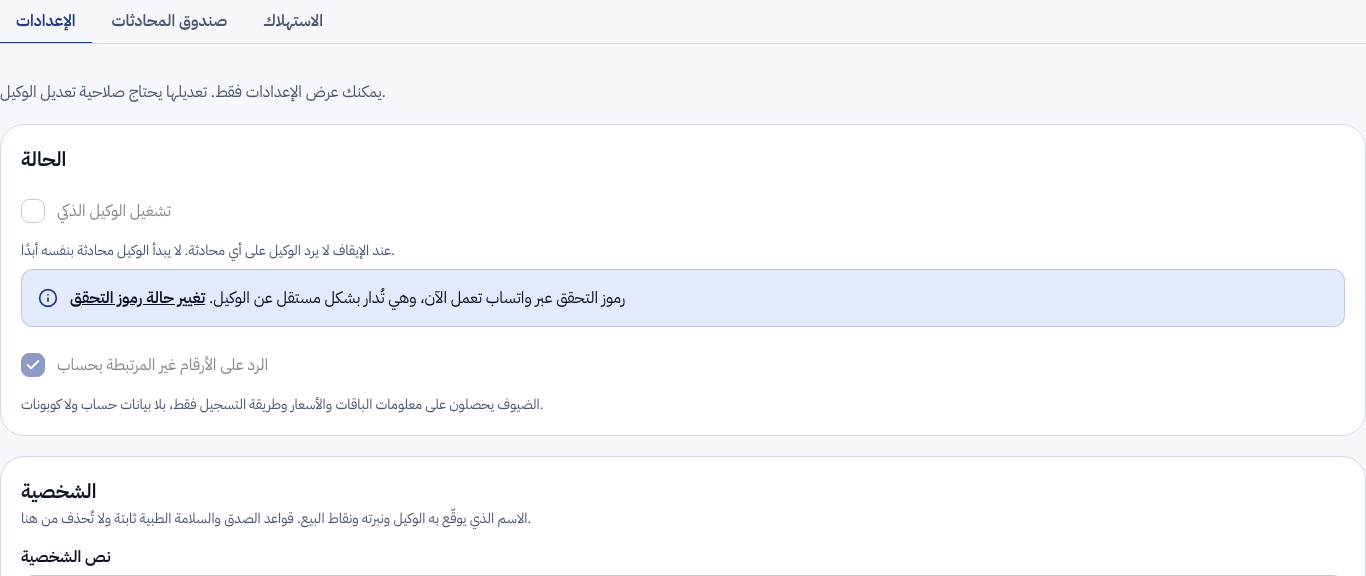
the Inbox tab › offers no chat controls to a reader without the write permission
Click the tab "صندوق المحادثات": {"x": 169, "y": 22} [96,0,243,44]
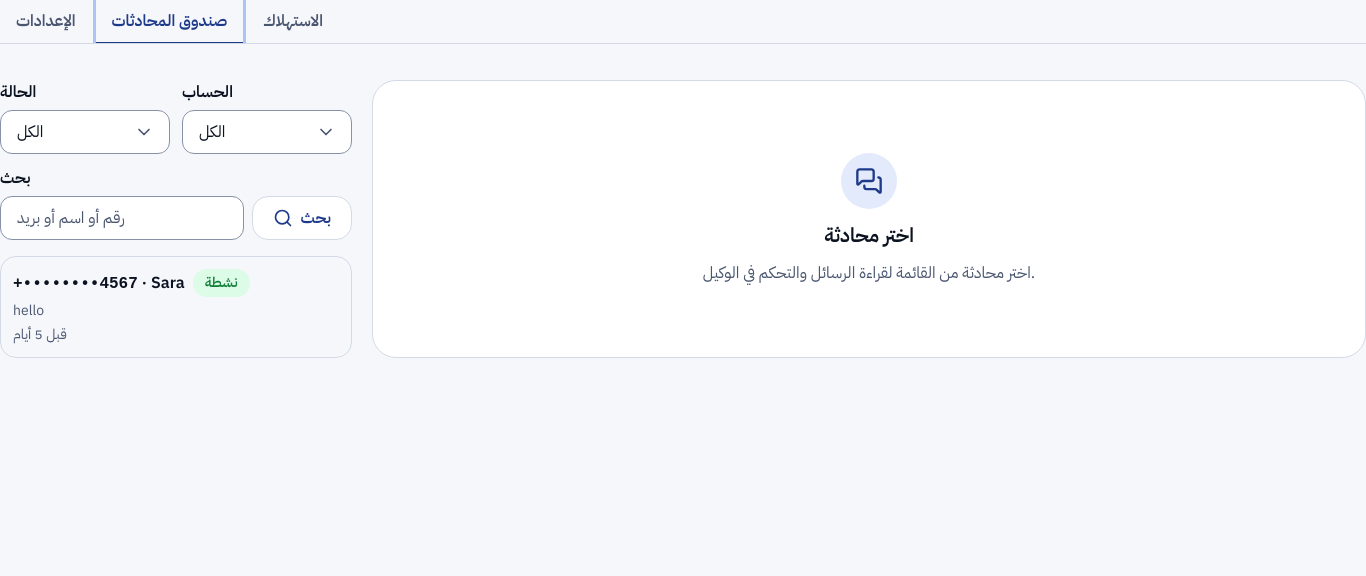
Click the button "+••••••••4567 · Sara نشطة hello قبل 5 أيام": {"x": 75, "y": 284} [0,256,352,358]
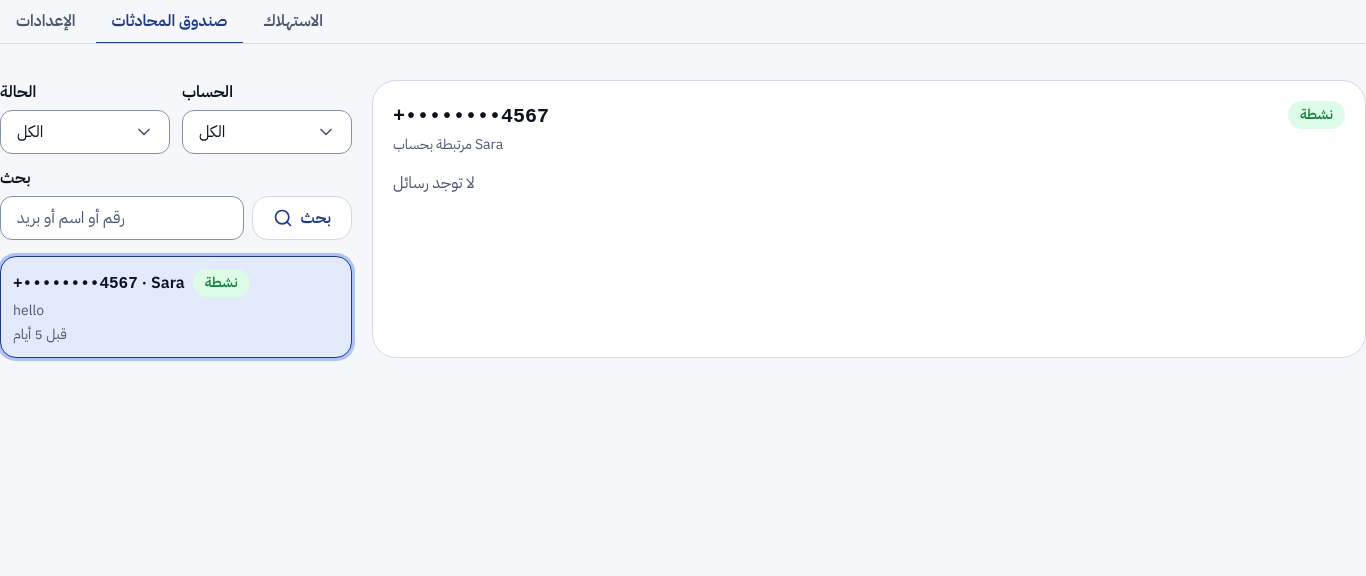
expect the text "لا توجد رسائل" is shown: met, box [393,171,475,195]
